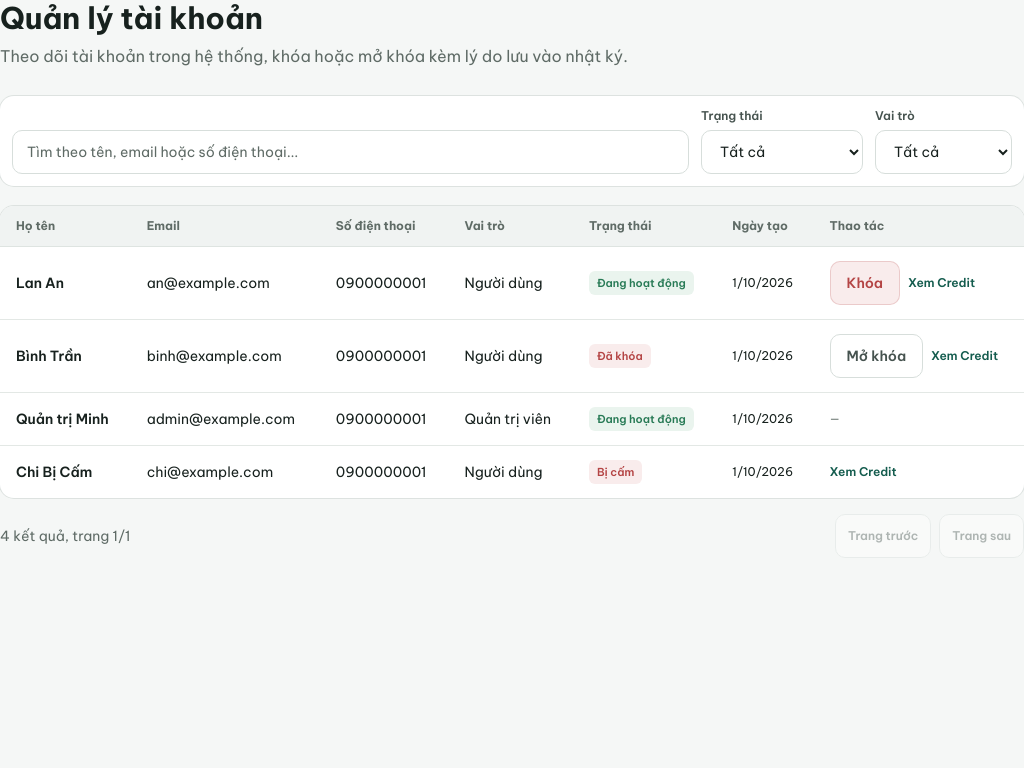
it: AdminAccounts › giữ hộp thoại và hiện lỗi khi Backend từ chối
Expected: the text "Lan An" is shown, [0,246,131,320]
Click the button "Khóa": (865, 283) [830,261,900,305]
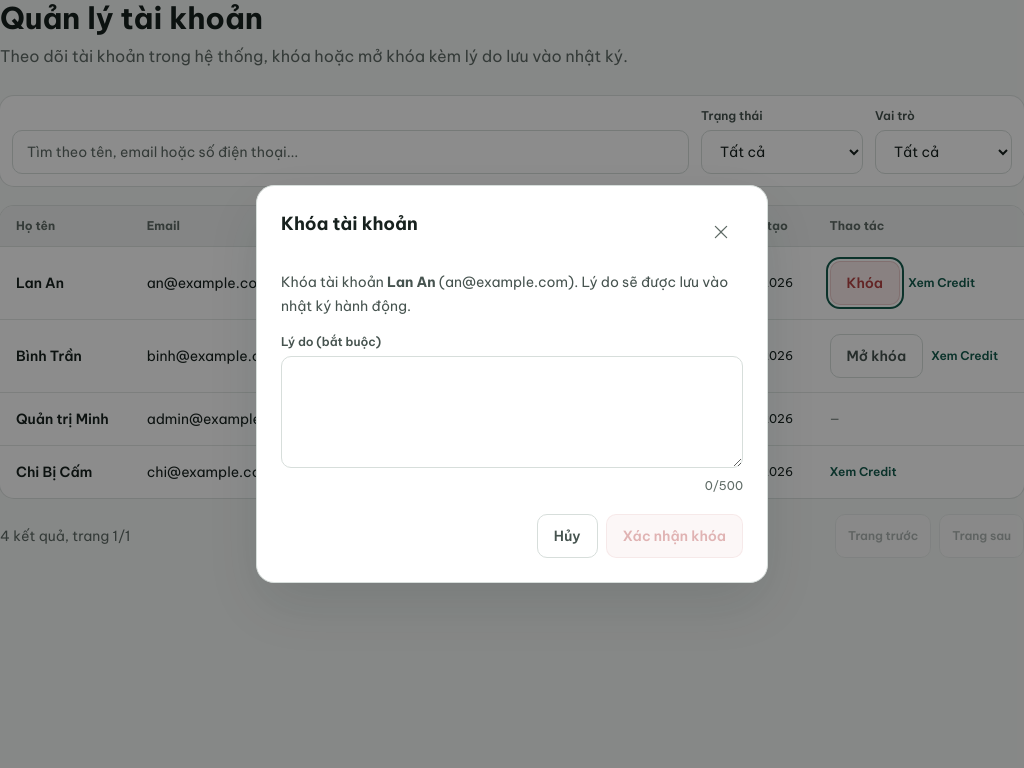
In the text box labelled "Lý do (bắt buộc)": (512, 412) [281,356,743,468], type "Vi phạm"
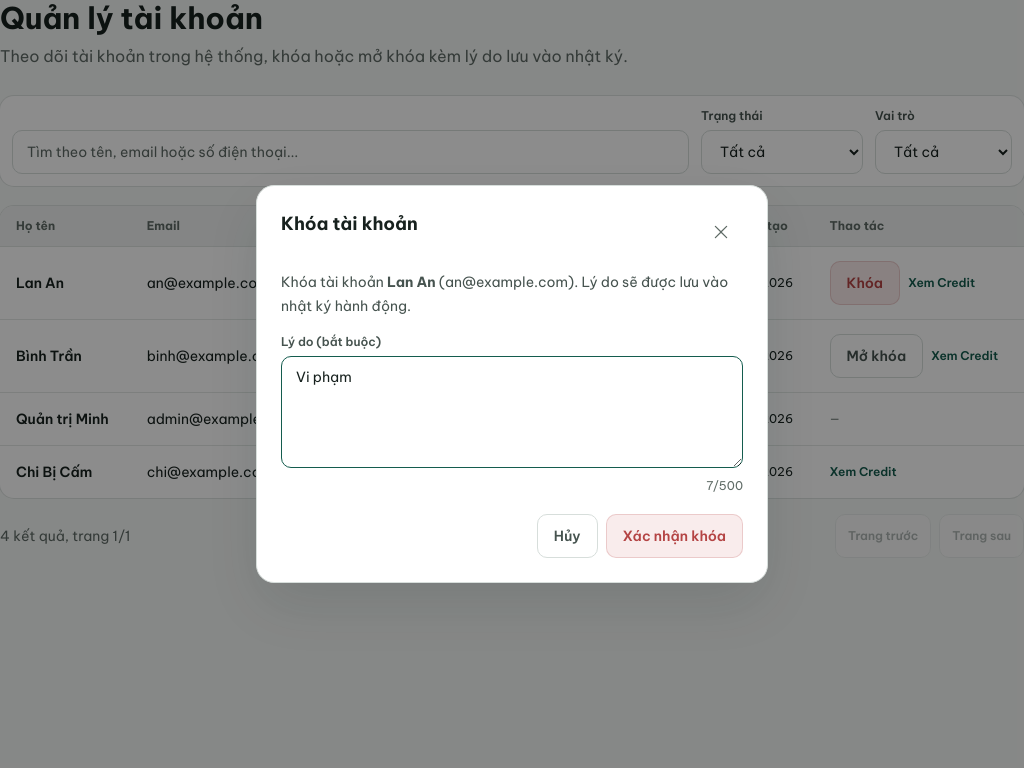
Click the button "Xác nhận khóa": (674, 536) [606,514,743,558]
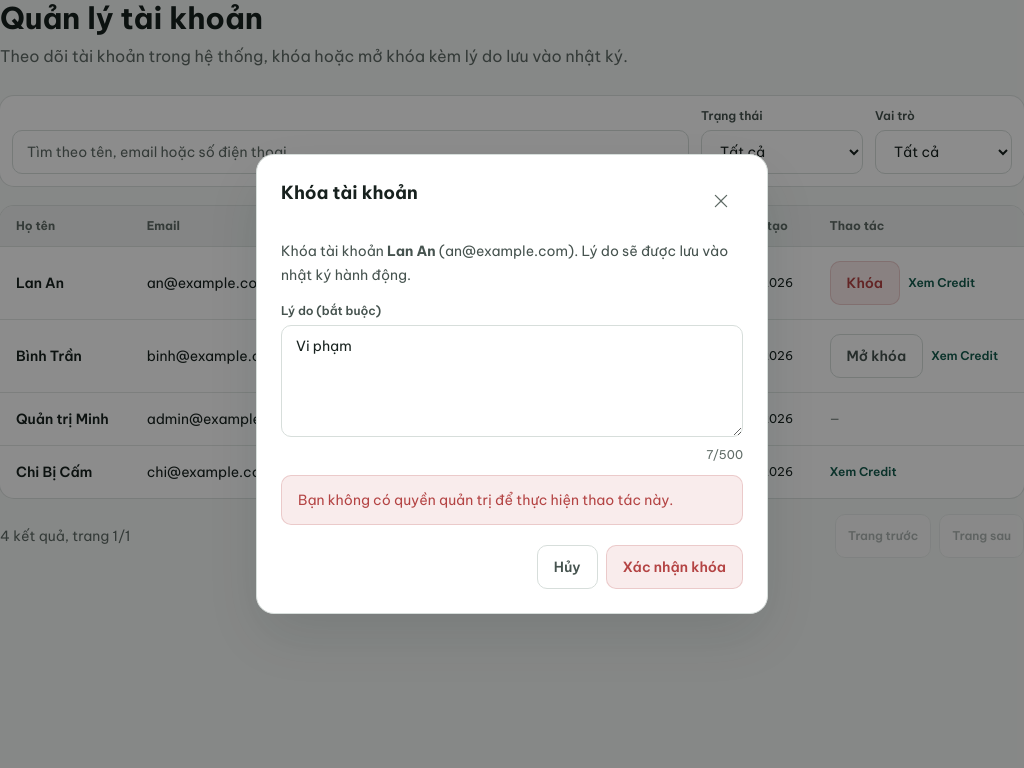
Now the message shows "không có quyền quản trị", box [298,491,673,509]
